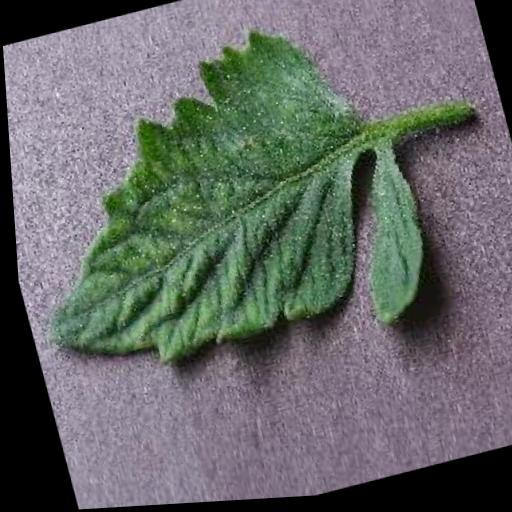Mosaic Virus: (1, 4, 446, 407)
